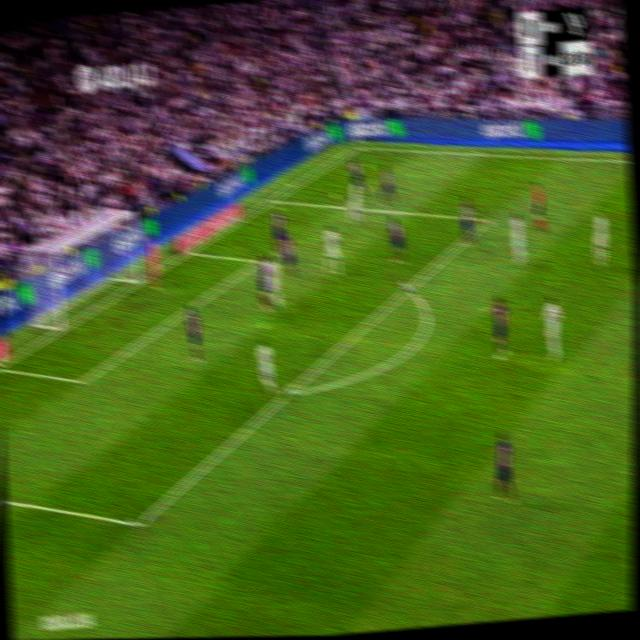bigarea_bottom_inner: (128, 506, 147, 541)
bigarea_top_inner: (479, 208, 494, 229)
bigarea_top_outter: (264, 189, 279, 208)
bottom_arc_area_intersection: (279, 379, 296, 404)
corner: (349, 139, 364, 152)
smallarea_bottom_inner: (74, 370, 90, 392)
top_arc_area_intersection: (400, 278, 414, 297)
